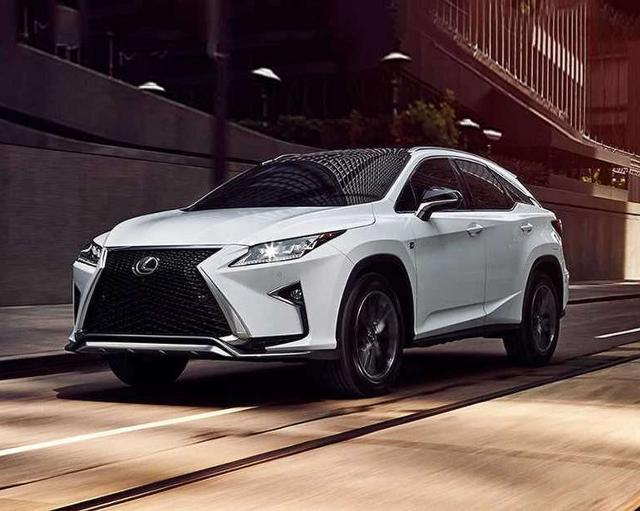lexus: (64, 146, 570, 398)
